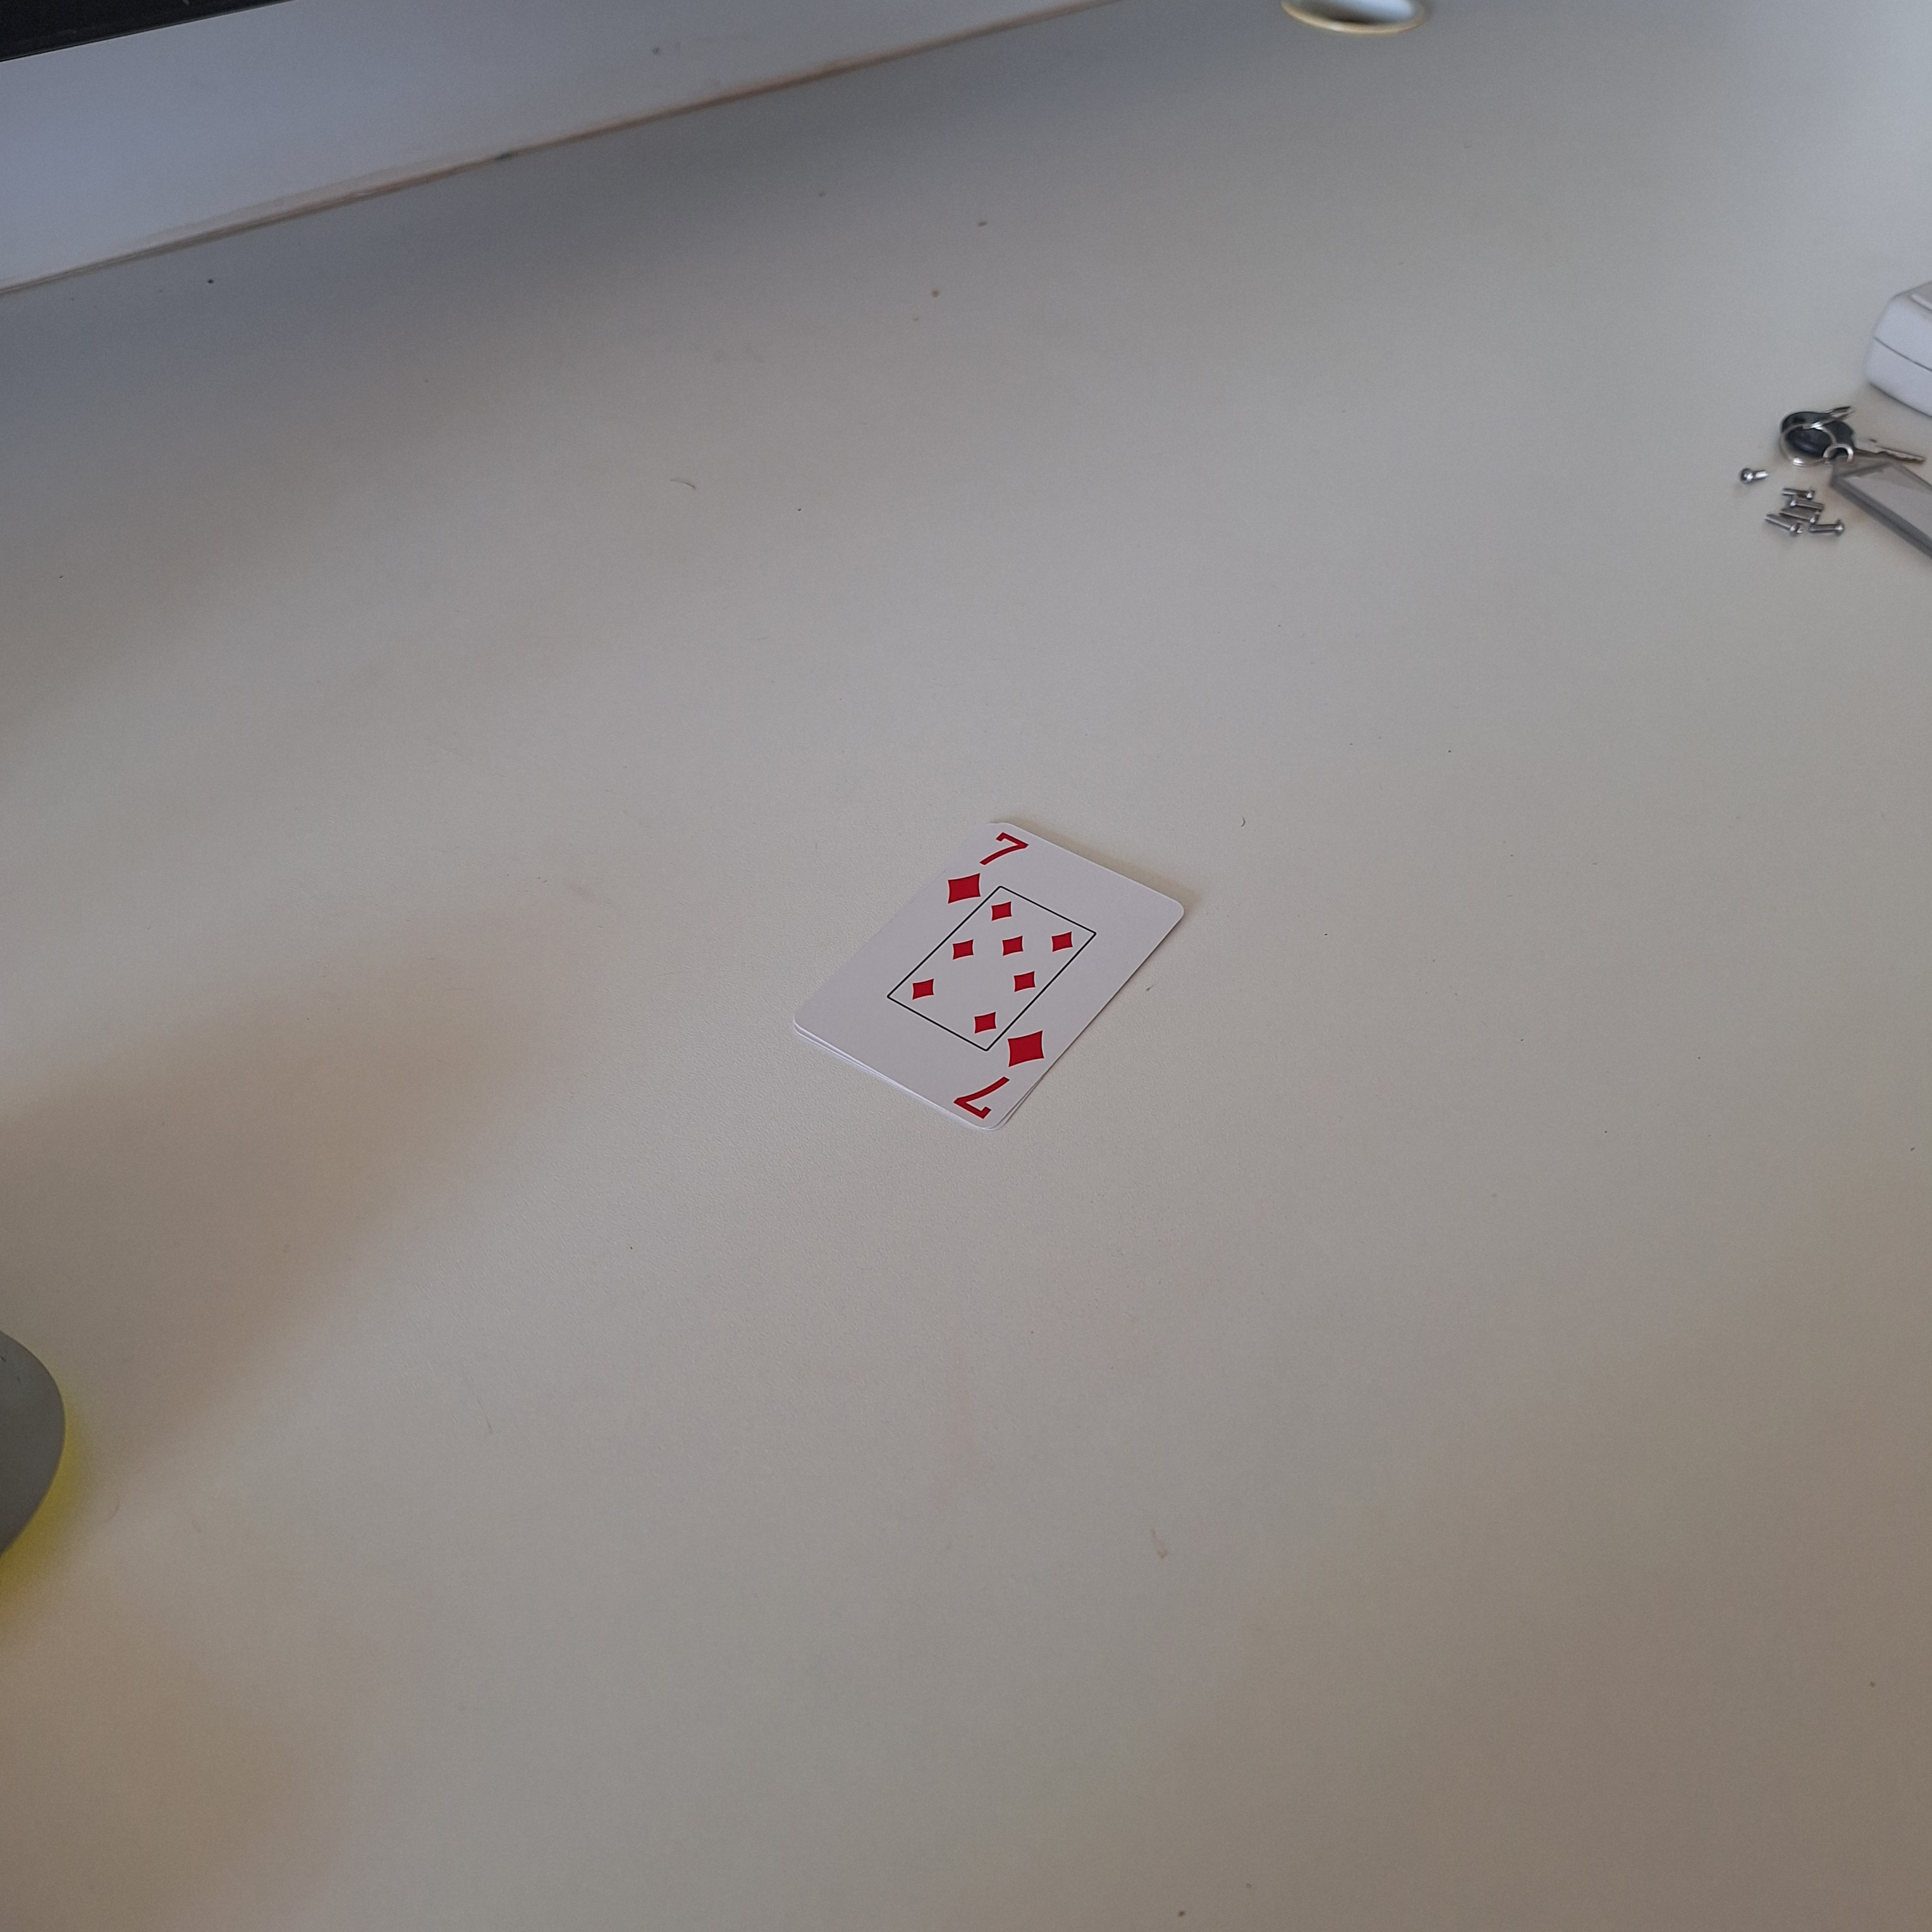7O: (943, 1026, 1053, 1129), (939, 824, 1035, 909)
